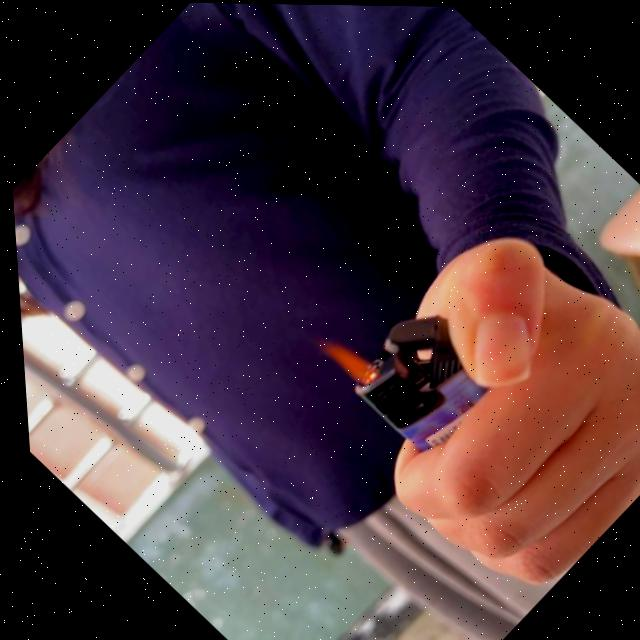Fire: (308, 323, 377, 390)
